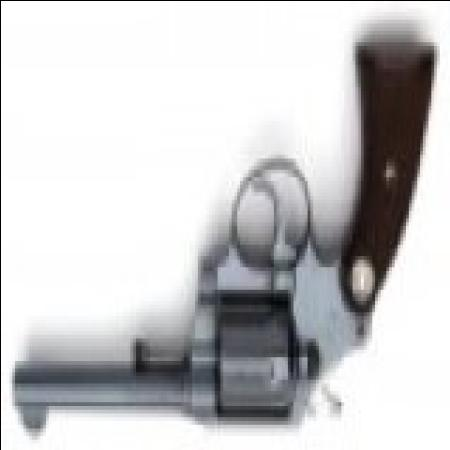Pistol: (12, 42, 436, 447)
